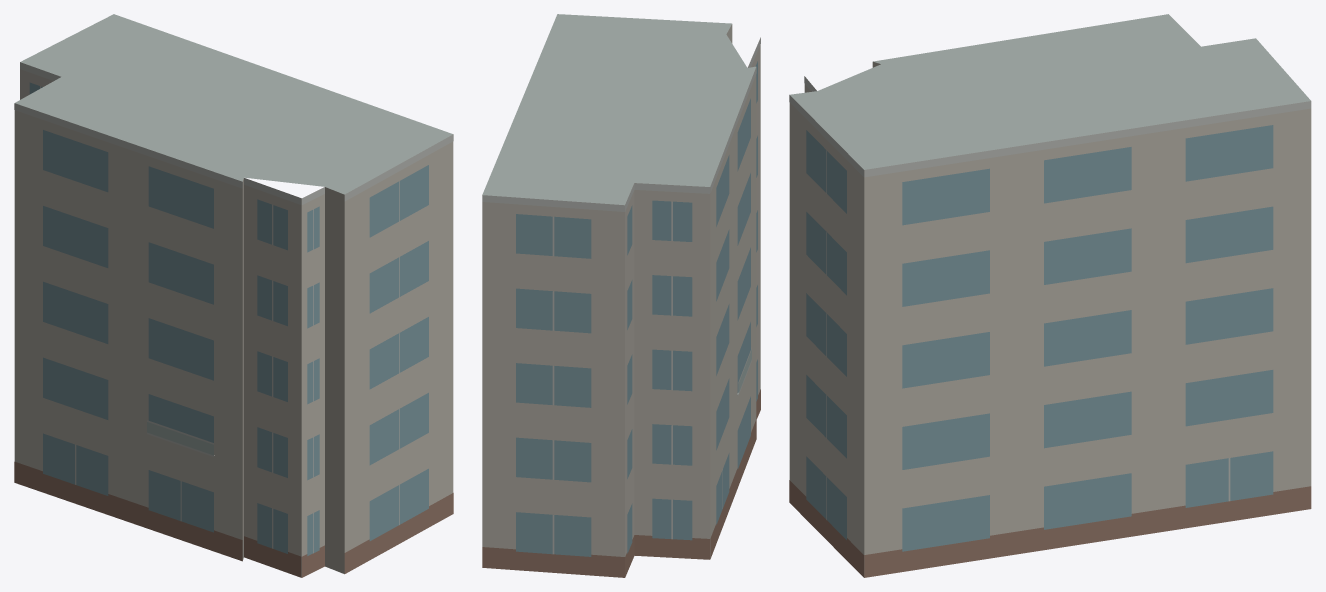
File: survey-upis-32583247.glb
The picture shows the model from 3 angles, left to right: view 1: azimuth 30°, elevation 25°; view 2: azimuth 150°, elevation 25°; view 3: azimuth 270°, elevation 25°; orthographic projection. The views are drawn at different scales.
Visible parts, largest first — view 1: survey-upis-32583247.tmp; view 2: survey-upis-32583247.tmp; view 3: survey-upis-32583247.tmp.
Part boxes in pixels (bbox=[...]): survey-upis-32583247.tmp: bbox=[14, 14, 453, 577]; survey-upis-32583247.tmp: bbox=[482, 14, 760, 577]; survey-upis-32583247.tmp: bbox=[789, 14, 1311, 577].
Bounding box in the file's own units: 10.87 × 13.25 × 15.37.
